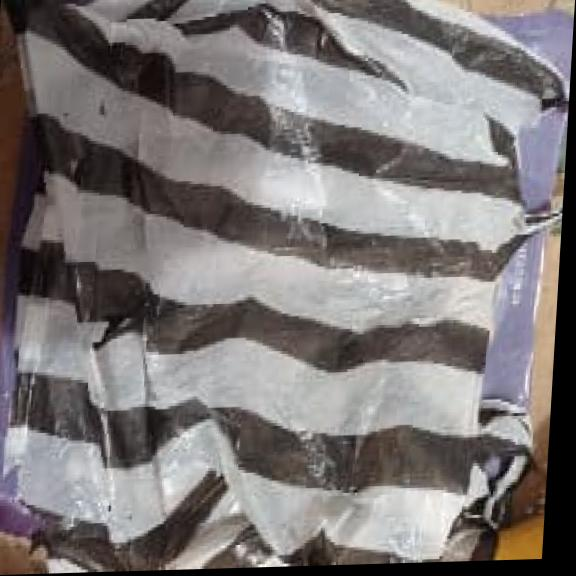Plastik: (0, 0, 574, 570)
